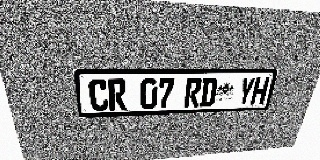0: (140, 78, 158, 109)
7: (157, 78, 175, 109)
C: (88, 79, 109, 111)
D: (199, 78, 218, 107)
H: (250, 77, 270, 105)
R: (108, 79, 127, 111), (184, 78, 202, 108)
Y: (236, 77, 256, 105)
